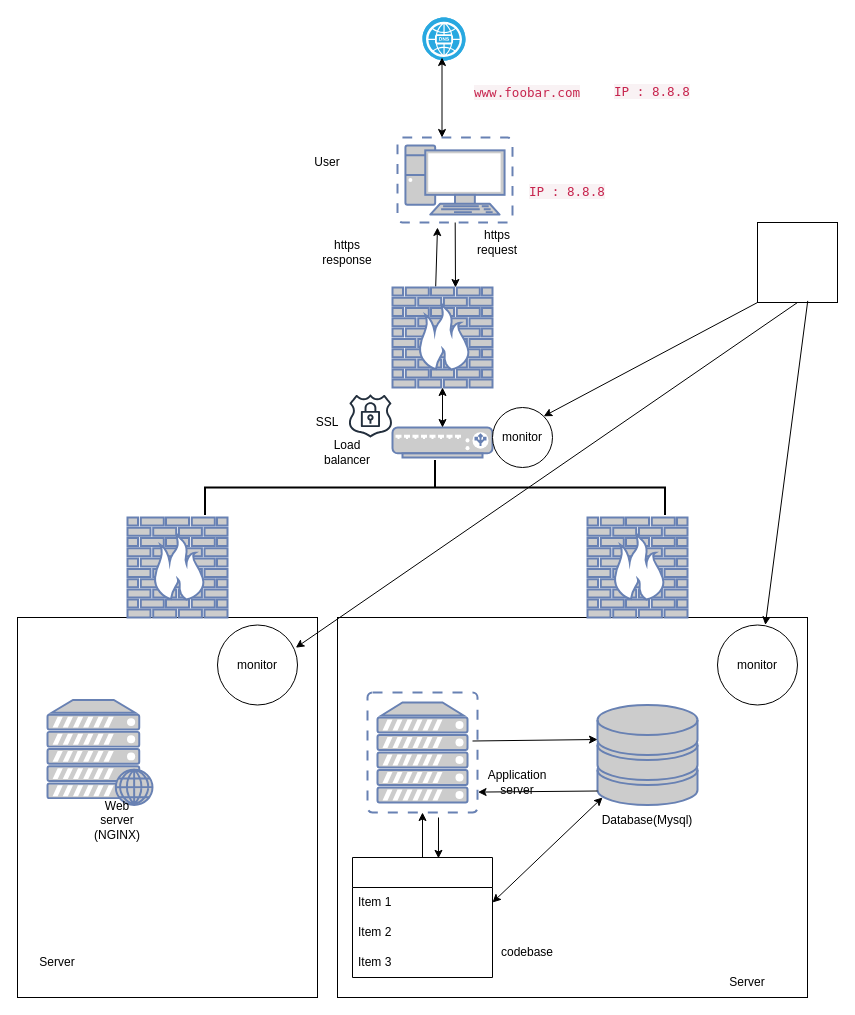
The diagram is 855 pixels wide and 1015 high, and some of its shapes have lost their labels. Here are the shapes that lost their labels. From the top down, the box of each, then its label:
(756, 222, 838, 302): Sum logic
(352, 856, 492, 978): List
